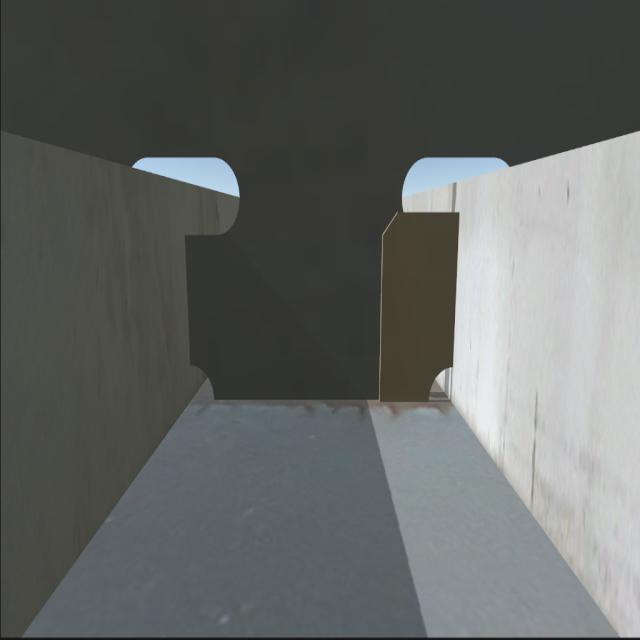fillet_hole: (425, 366, 459, 404), (188, 372, 219, 409)
fillet_yong_jeop_jang: (220, 397, 424, 405)
longi_yong_jeop_jang: (451, 214, 461, 365), (185, 235, 195, 359)
plate_CP03: (379, 210, 458, 395)
